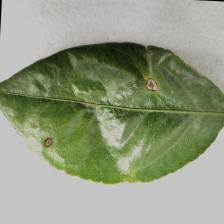canker: (33, 61, 164, 157)
